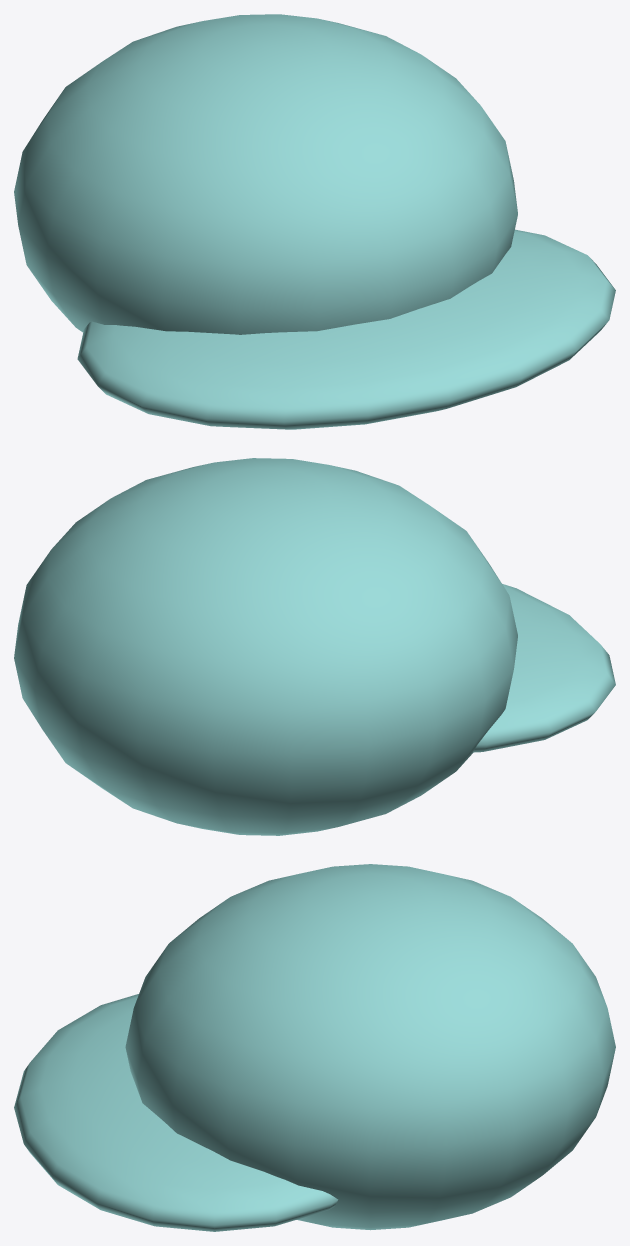
The model's file is hat.glb.
3 renders of one model, top to bottom at view 1: azimuth 30°, elevation 25°; view 2: azimuth 150°, elevation 25°; view 3: azimuth 270°, elevation 25°, orthographic. The views are drawn at different scales.
Visible parts, largest first — view 1: cap, brim; view 2: cap, brim; view 3: cap, brim.
Part boxes in pixels (x1,y1,x2,y2): cap: (14,14,517,334); brim: (77,229,615,429); cap: (14,458,517,835); brim: (473,584,615,752); cap: (125,864,615,1230); brim: (14,994,338,1231).
Size of the model in its own units: 0.5 by 0.3 by 0.54.
